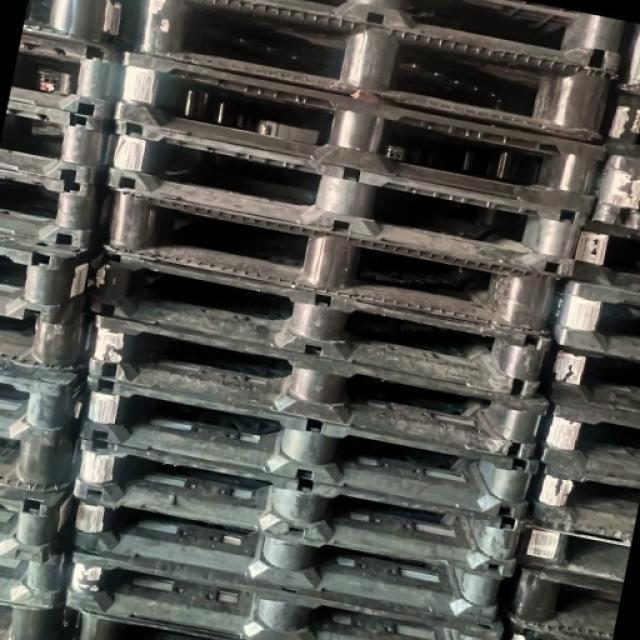igps: (108, 46, 612, 220), (104, 108, 590, 284), (85, 234, 557, 405), (100, 174, 565, 346), (84, 304, 556, 468), (76, 368, 544, 528), (127, 0, 622, 149), (67, 429, 531, 583), (71, 490, 506, 627), (59, 547, 509, 640), (222, 0, 630, 85), (5, 23, 133, 126), (0, 158, 123, 265), (510, 499, 637, 597), (0, 92, 125, 191), (0, 223, 112, 332), (516, 458, 640, 549), (537, 264, 640, 371), (500, 558, 626, 640), (0, 282, 103, 382), (531, 398, 640, 487), (530, 336, 640, 424), (0, 355, 96, 452), (14, 0, 153, 63), (66, 594, 244, 640), (0, 478, 85, 569), (0, 413, 89, 497), (557, 211, 640, 299), (576, 129, 640, 238), (0, 547, 77, 613), (589, 72, 640, 157), (0, 592, 75, 640)
